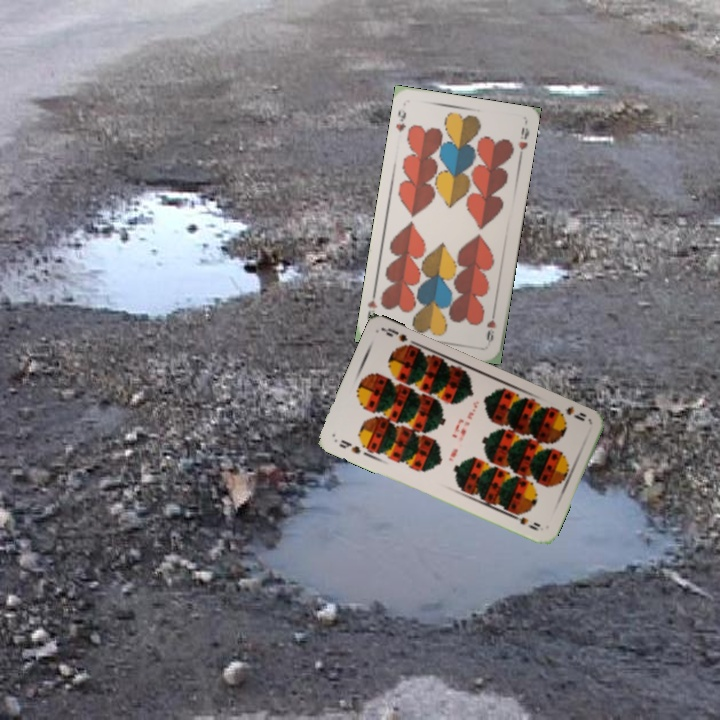H9: (482, 306, 498, 347), (392, 102, 409, 134)
S9: (552, 402, 589, 424), (335, 436, 363, 456)
